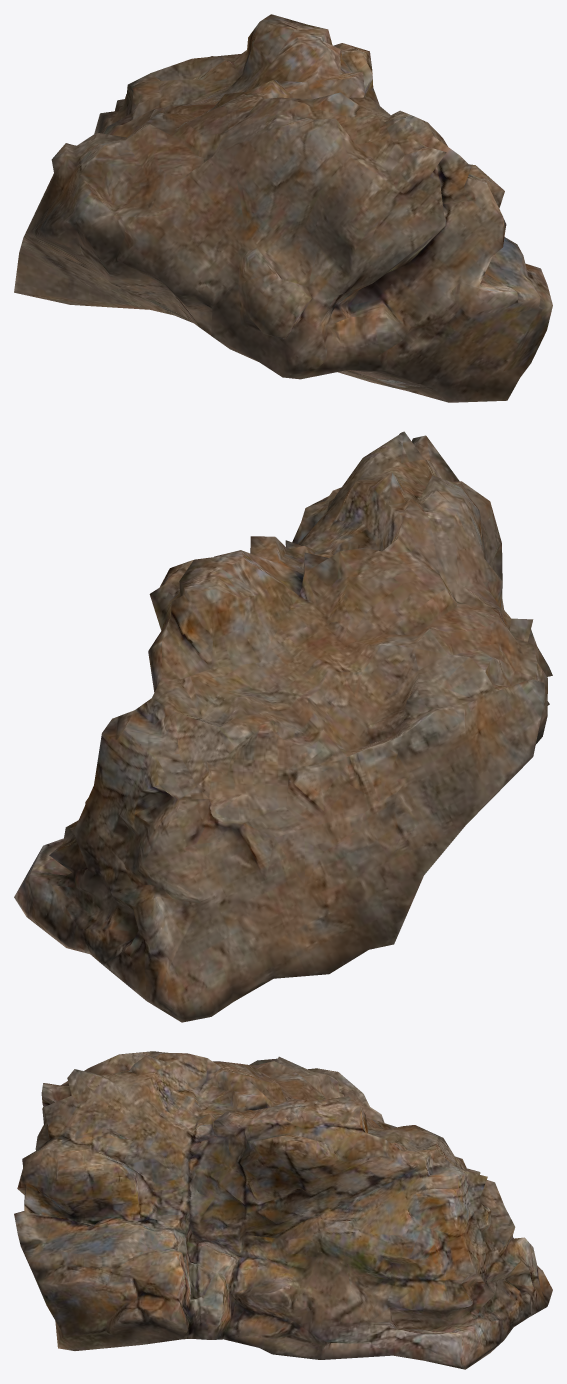
Rendered from rock_boulder_01.0d2f2f9ed3.glb.
The picture shows the model from 3 angles, top to bottom: view 1: azimuth 30°, elevation 25°; view 2: azimuth 150°, elevation 25°; view 3: azimuth 270°, elevation 25°; orthographic projection. The views are drawn at different scales.
Visible parts, largest first — view 1: boulder_01; view 2: boulder_01; view 3: boulder_01.
Boxes of the visible parts, bbox=[...] form: boulder_01: bbox=[14, 14, 552, 402]; boulder_01: bbox=[14, 431, 552, 1022]; boulder_01: bbox=[14, 1051, 552, 1369].
Bounding box in the file's own units: 0.6945 × 0.5443 × 0.9915.
Materials: 1 (1 with a texture image).
